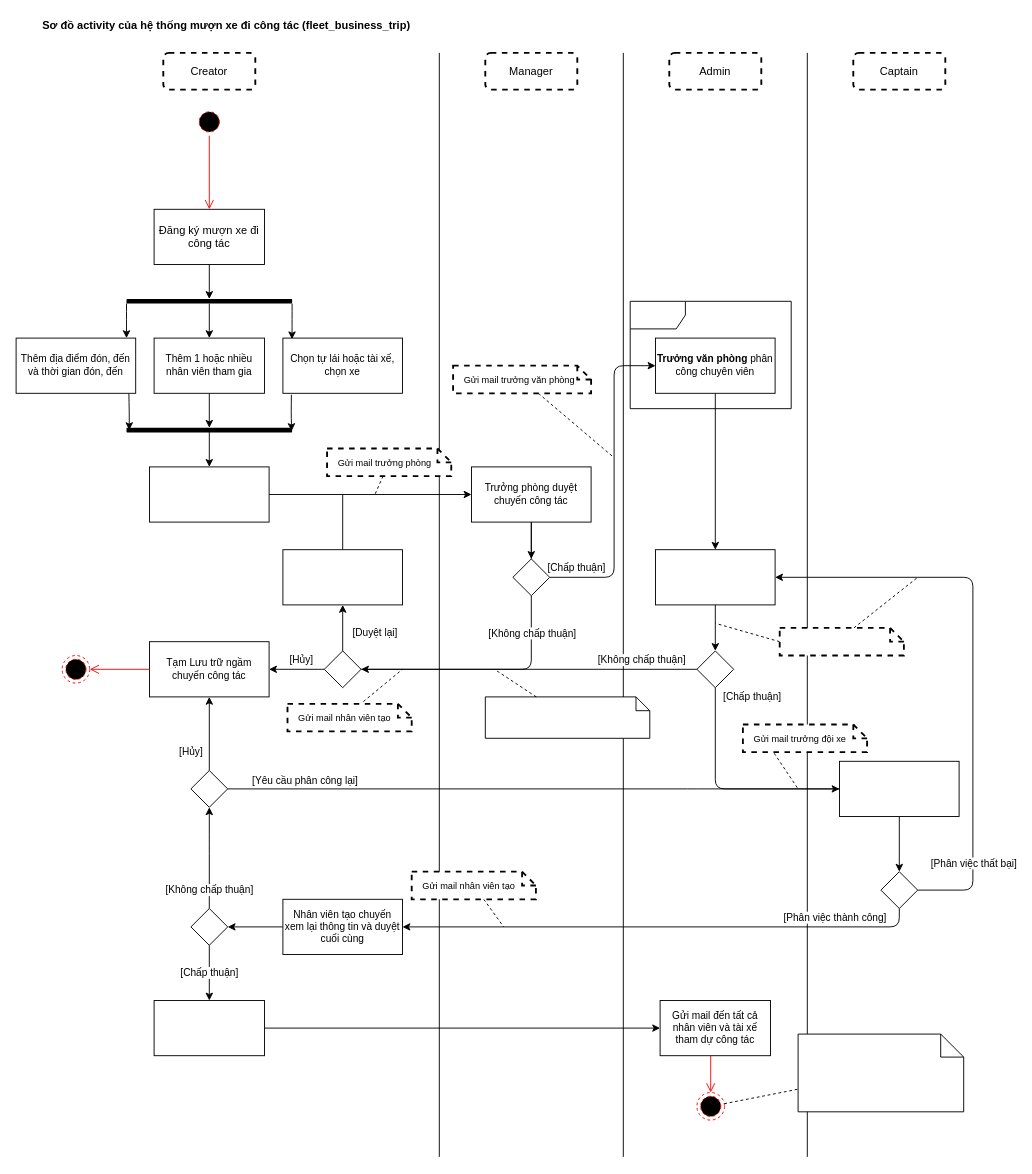
Image size: 1032x1174. Some labels were removed from this diagram. Each missing label, with the centre of its shape:
Admin Manager: the point at 710,354
Chỉnh sửa lại record công tác và yêu cầu duyệt lại: the point at 342,577
Gửi mail văn phòng: the point at 841,641
Nếu trưởng phòng hoặc văn phòng ko chấp thuận từ các sơ đồ khác: the point at 567,717
Trưởng đội xe phân việc (tài xế/ xe) và cập nhật record công tác: the point at 899,788
Tạo thành công record công tác trên database (chưa duyệt): the point at 209,494
Tạo thành công record công tác trên database (đã duyệt): the point at 208,1028
Văn phòng duyệt chuyến công tác: the point at 715,577
Đầu vào đến use-case của fleet_business_automated: the point at 880,1072
